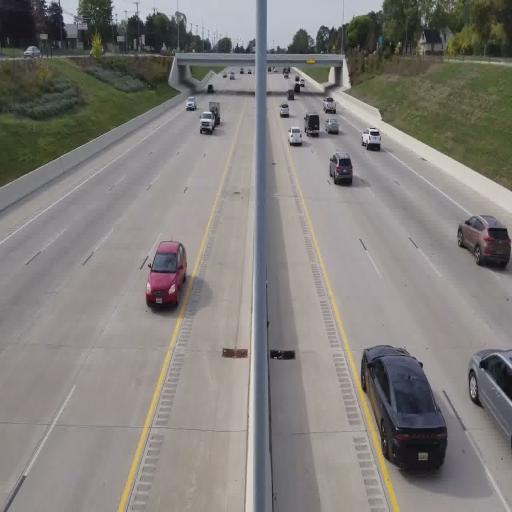Car: (360, 344, 448, 471), (467, 348, 512, 448), (457, 212, 512, 268), (145, 238, 188, 308), (329, 150, 354, 186), (199, 111, 215, 134), (288, 127, 303, 146), (325, 119, 339, 134), (186, 96, 197, 110), (280, 102, 290, 117)
Truck: (361, 126, 381, 150), (304, 112, 320, 136), (209, 101, 221, 125), (323, 96, 337, 114)
